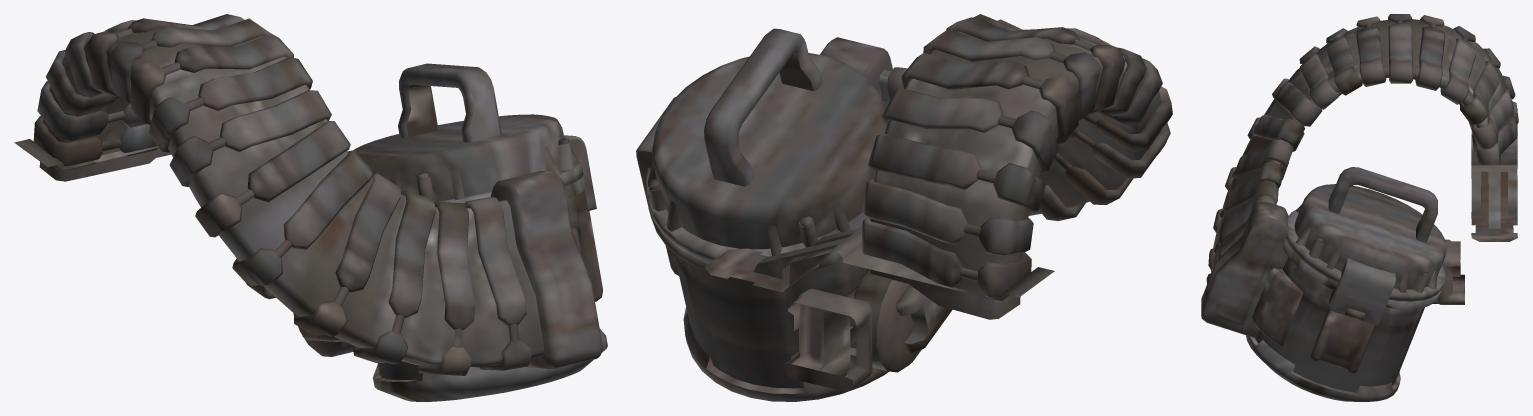
File: HeavyWeapons_Vladof_Magazine_3.obj
3 views of the same model, side by side, from view 1: azimuth 30°, elevation 25°; view 2: azimuth 150°, elevation 25°; view 3: azimuth 270°, elevation 25° (orthographic). The views are drawn at different scales.
Parts seen in each view (by area): view 1: Mag_3_belt_SK_HW_VLA.369, Mag_3_canister_bottom_SK_HW_VLA.359, Mag_3_cannister_top_SK_HW_VLA.371, Mag_3_cannister_top_handle_SK_HW_VLA.372, Mag_3_belt_link_15_front.001_SK_HW_VLA.409, Mag_3_belt_link_14_front_SK_HW_VLA.408, Mag_3_belt_link_13_front_SK_HW_VLA.411, Mag_3_belt_link_12_front_SK_HW_VLA.413, Mag_3_belt_link_11_front_SK_HW_VLA.415, Mag_3_belt_link_10_front_SK_HW_VLA.417, Mag_3_belt_link_9_front_SK_HW_VLA.419, Mag_3_belt_link_8_front_SK_HW_VLA.421 (+22 smaller); view 2: Mag_3_cannister_top_SK_HW_VLA.371, Mag_3_belt_SK_HW_VLA.369, Mag_3_canister_bottom_SK_HW_VLA.359, Mag_3_cannister_bottom_armature_SK_HW_VLA.360, Mag_3_cannister_top_handle_SK_HW_VLA.372, Mag_3_reciever_SK_HW_VLA.357, Mag_3_belt_link_3_front_SK_HW_VLA.431, Mag_3_belt_link_2_front_SK_HW_VLA.433, Mag_3_belt_link_4_front_SK_HW_VLA.429, Mag_3_belt_link_1_front_SK_HW_VLA.435, Mag_3_belt_link_5_front_SK_HW_VLA.427, Mag_3_belt_link_6_front_SK_HW_VLA.425 (+16 smaller); view 3: Mag_3_canister_bottom_SK_HW_VLA.359, Mag_3_cannister_top_SK_HW_VLA.371, Mag_3_belt_SK_HW_VLA.369, Mag_3_reciever_SK_HW_VLA.357, Mag_3_cannister_top_clasp_SK_HW_VLA.358, Mag_3_cannister_top_handle_SK_HW_VLA.372, Mag_3_belt_link_5_front_SK_HW_VLA.427, Mag_3_belt_link_6_front_SK_HW_VLA.425, Mag_3_belt_link_7_front_SK_HW_VLA.423, Mag_3_belt_link_4_front_SK_HW_VLA.429, Mag_3_cannister_bottom_armature_SK_HW_VLA.360, Mag_3_belt_link_3_front_SK_HW_VLA.431 (+10 smaller).
Boxes of the visible parts, x1,y1,x2,y2 form: Mag_3_belt_SK_HW_VLA.369: (39, 28, 544, 367); Mag_3_canister_bottom_SK_HW_VLA.359: (301, 171, 607, 401); Mag_3_cannister_top_SK_HW_VLA.371: (353, 114, 583, 203); Mag_3_cannister_top_handle_SK_HW_VLA.372: (398, 63, 501, 142); Mag_3_belt_link_15_front.001_SK_HW_VLA.409: (465, 197, 526, 326); Mag_3_belt_link_14_front_SK_HW_VLA.408: (434, 201, 474, 329); Mag_3_belt_link_13_front_SK_HW_VLA.411: (388, 191, 435, 318); Mag_3_belt_link_12_front_SK_HW_VLA.413: (335, 173, 400, 292); Mag_3_belt_link_11_front_SK_HW_VLA.415: (283, 150, 373, 249); Mag_3_belt_link_10_front_SK_HW_VLA.417: (247, 121, 350, 202); Mag_3_belt_link_9_front_SK_HW_VLA.419: (219, 90, 331, 151); Mag_3_belt_link_8_front_SK_HW_VLA.421: (198, 57, 312, 110); Mag_3_cannister_top_SK_HW_VLA.371: (645, 53, 886, 262); Mag_3_belt_SK_HW_VLA.369: (869, 31, 1161, 319); Mag_3_canister_bottom_SK_HW_VLA.359: (647, 37, 952, 401); Mag_3_cannister_bottom_armature_SK_HW_VLA.360: (784, 269, 921, 391); Mag_3_cannister_top_handle_SK_HW_VLA.372: (704, 28, 822, 186); Mag_3_reciever_SK_HW_VLA.357: (704, 227, 1054, 301); Mag_3_belt_link_3_front_SK_HW_VLA.431: (868, 133, 981, 189); Mag_3_belt_link_2_front_SK_HW_VLA.433: (862, 179, 967, 244); Mag_3_belt_link_4_front_SK_HW_VLA.429: (882, 88, 1003, 132); Mag_3_belt_link_1_front_SK_HW_VLA.435: (861, 217, 962, 287); Mag_3_belt_link_5_front_SK_HW_VLA.427: (901, 53, 1029, 89); Mag_3_belt_link_6_front_SK_HW_VLA.425: (923, 29, 1055, 61); Mag_3_canister_bottom_SK_HW_VLA.359: (1201, 201, 1442, 401); Mag_3_cannister_top_SK_HW_VLA.371: (1285, 184, 1446, 301); Mag_3_belt_SK_HW_VLA.369: (1211, 19, 1513, 272); Mag_3_reciever_SK_HW_VLA.357: (1471, 109, 1517, 241); Mag_3_cannister_top_clasp_SK_HW_VLA.358: (1329, 258, 1395, 325); Mag_3_cannister_top_handle_SK_HW_VLA.372: (1328, 167, 1437, 242); Mag_3_belt_link_5_front_SK_HW_VLA.427: (1415, 26, 1445, 90); Mag_3_belt_link_6_front_SK_HW_VLA.425: (1388, 23, 1412, 83); Mag_3_belt_link_7_front_SK_HW_VLA.423: (1356, 26, 1386, 86); Mag_3_belt_link_4_front_SK_HW_VLA.429: (1440, 38, 1475, 104); Mag_3_cannister_bottom_armature_SK_HW_VLA.360: (1433, 239, 1464, 304); Mag_3_belt_link_3_front_SK_HW_VLA.431: (1459, 61, 1500, 124).
Size of the model in its own units: 37.31 by 31.83 by 33.45.
